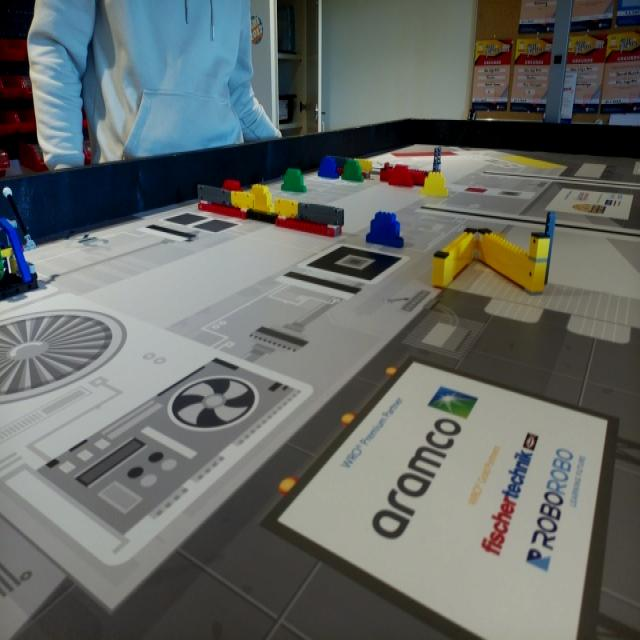blau: (366, 212, 404, 249), (320, 157, 338, 179)
gruen: (282, 170, 304, 191), (344, 162, 362, 181)
rot: (388, 163, 414, 188), (221, 179, 242, 191)
yellow: (422, 172, 448, 197), (253, 183, 274, 207)
